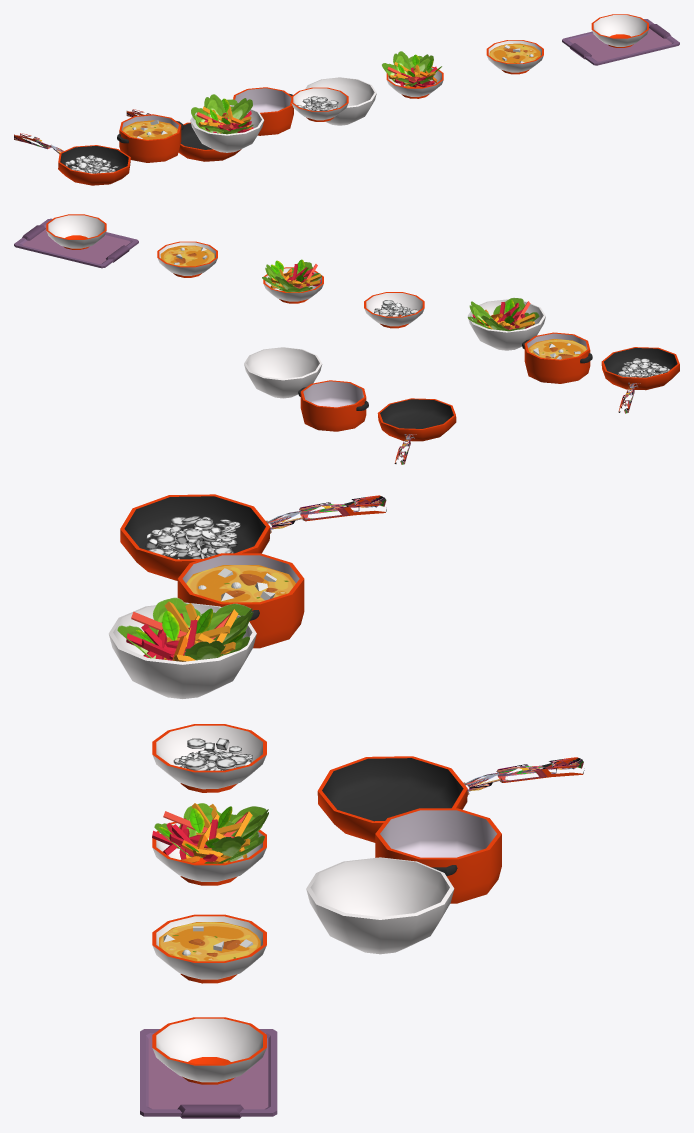
The model's file is dishes.fbx.
3 renders of one model, top to bottom at view 1: azimuth 30°, elevation 25°; view 2: azimuth 150°, elevation 25°; view 3: azimuth 270°, elevation 25°, orthographic. The views are drawn at different scales.
Parts seen in each view (by area): view 1: serving_tray, polySurface76, polySurface73, pCube280, soup_wear, salad_wear, empty_bowl, pCube281, polySurface80, pDisc9, fry_wear, pDisc2 (+4 smaller); view 2: soup_wear, salad_wear, fry_wear, serving_tray, polySurface76, polySurface73, empty_bowl, polySurface80, pCube280, pCube281, pDisc9, pDisc2 (+4 smaller); view 3: salad_wear, fry_wear, soup_wear, polySurface76, serving_tray, pCube280, empty_bowl, polySurface80, pCube281, polySurface73, pDisc9, pDisc2 (+4 smaller).
Boxes of the visible parts, box(x1,y1,x2,y2) form: serving_tray: box(562, 19, 679, 65); polySurface76: box(14, 133, 130, 185); polySurface73: box(117, 114, 183, 162); pCube280: box(191, 94, 253, 134); soup_wear: box(233, 87, 293, 135); salad_wear: box(305, 77, 376, 125); empty_bowl: box(591, 14, 648, 47); pCube281: box(382, 51, 441, 87); polySurface80: box(190, 105, 264, 152); pDisc9: box(291, 87, 348, 121); fry_wear: box(126, 109, 241, 161); pDisc2: box(486, 40, 543, 74); soup_wear: box(298, 380, 368, 431); salad_wear: box(244, 347, 322, 398); fry_wear: box(377, 398, 456, 464); serving_tray: box(14, 218, 138, 268); polySurface76: box(601, 347, 679, 413); polySurface73: box(522, 332, 592, 383); empty_bowl: box(46, 214, 106, 249); polySurface80: box(467, 299, 545, 350); pCube280: box(467, 297, 539, 331); pCube281: box(262, 259, 321, 292); pDisc9: box(364, 292, 424, 328); pDisc2: box(157, 241, 217, 277); salad_wear: box(306, 857, 454, 954); fry_wear: box(317, 756, 584, 842); soup_wear: box(375, 808, 501, 903); polySurface76: box(120, 494, 386, 580); serving_tray: box(140, 1029, 277, 1118); pCube280: box(117, 597, 253, 661); empty_bowl: box(152, 1017, 266, 1084); polySurface80: box(108, 602, 256, 698); pCube281: box(152, 803, 268, 863); polySurface73: box(177, 553, 304, 648); pDisc9: box(152, 724, 266, 792); pDisc2: box(152, 914, 266, 983).
Bounding box in the file's own units: 6.53 × 0.93 × 2.22.
